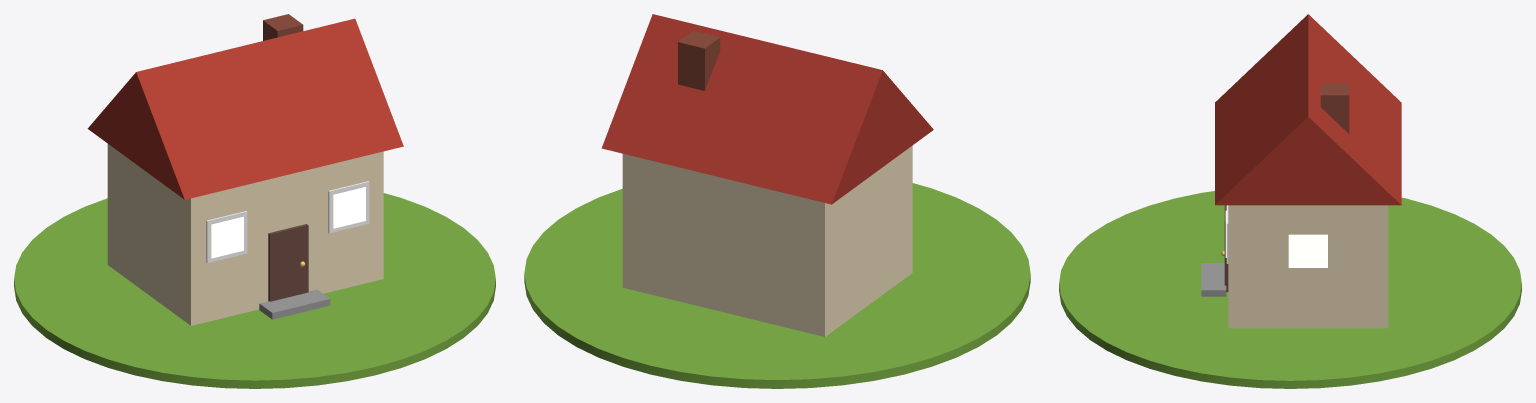
Rendered from house.glb.
3 renders of one model, left to right at view 1: azimuth 30°, elevation 25°; view 2: azimuth 150°, elevation 25°; view 3: azimuth 270°, elevation 25°, orthographic. The views are drawn at different scales.
Visible parts, largest first — view 1: Lawn, Roof, Walls, Door, Step, Window, Window.2, Chimney, Frame, Frame.2; view 2: Lawn, Walls, Roof, Chimney; view 3: Lawn, Roof, Walls, Window Side, Chimney, Step.
Part boxes in pixels (<box>): Lawn: <box>14,193,495,388</box>; Roof: <box>87,18,403,199</box>; Walls: <box>107,144,383,325</box>; Door: <box>268,224,308,301</box>; Step: <box>259,289,330,319</box>; Window: <box>211,216,243,258</box>; Window.2: <box>333,187,365,228</box>; Chimney: <box>263,14,303,40</box>; Frame: <box>206,211,247,263</box>; Frame.2: <box>328,181,369,233</box>; Lawn: <box>524,183,1030,388</box>; Walls: <box>622,145,912,336</box>; Roof: <box>601,14,933,204</box>; Chimney: <box>678,30,720,90</box>; Lawn: <box>1059,191,1521,388</box>; Roof: <box>1215,14,1401,205</box>; Walls: <box>1228,205,1388,328</box>; Window Side: <box>1288,234,1327,267</box>; Chimney: <box>1320,83,1349,133</box>; Step: <box>1201,263,1226,296</box>.
Bounding box in the file's own units: 2.6 × 1.4 × 2.6.
